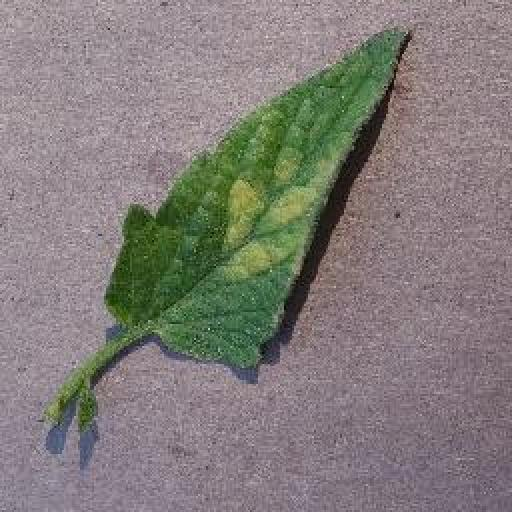disease_tomato: (108, 21, 412, 371)
